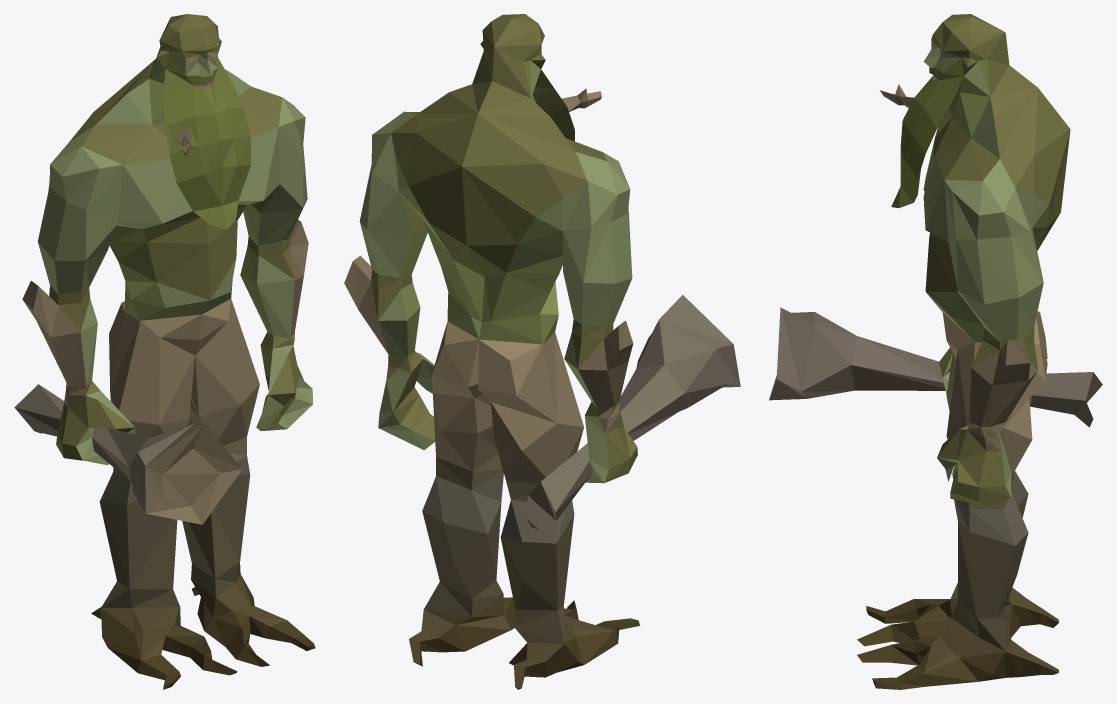
File: moss_giant.gltf
3 views of the same model, side by side, from view 1: azimuth 30°, elevation 25°; view 2: azimuth 150°, elevation 25°; view 3: azimuth 270°, elevation 25° (orthographic).
Size of the model in its own units: 170 by 367 by 175.
Materials: 1 (1 with a texture image).
